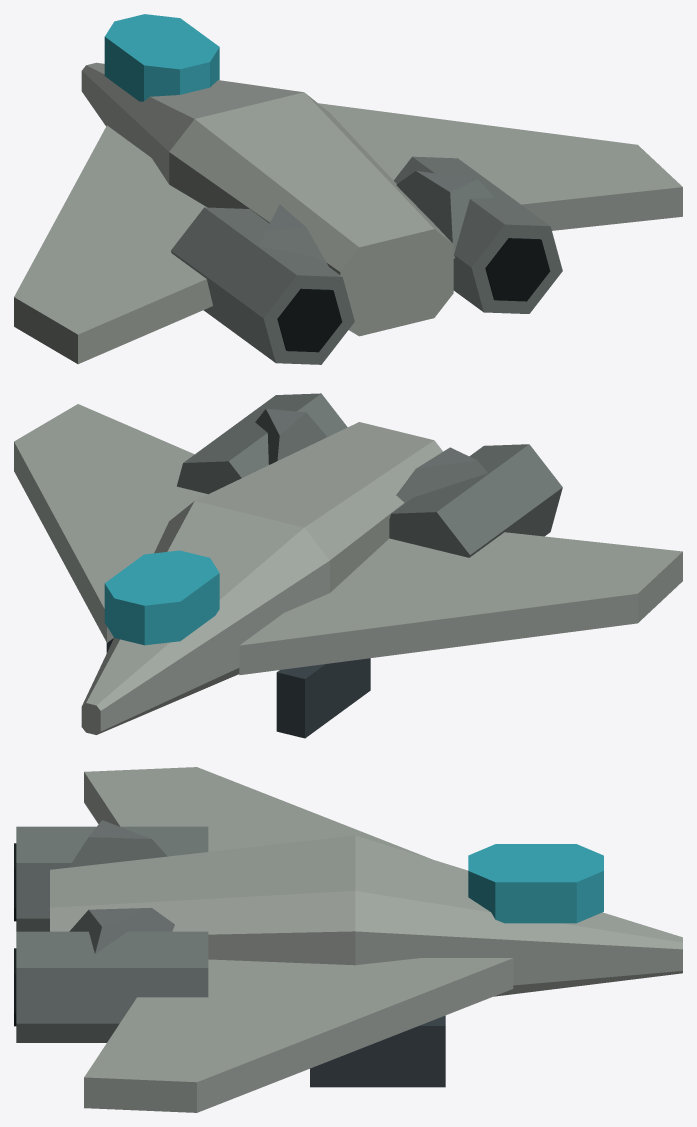
Rendered from family-fighter.glb.
3 views of the same model, one above another, from view 1: azimuth 30°, elevation 25°; view 2: azimuth 150°, elevation 25°; view 3: azimuth 270°, elevation 25° (orthographic). The views are drawn at different scales.
Parts seen in each view (by area): view 1: hull, wing-1, wing1, engine-1, engine1; view 2: hull, wing-1, wing1, engine-1, engine1, gear-1; view 3: hull, wing1, engine1, wing-1, engine-1, gear1.
Part boxes in pixels (x1,y1,x2,y2): hull: [81, 14, 494, 336]; wing-1: [14, 125, 212, 364]; wing1: [318, 103, 682, 230]; engine-1: [171, 207, 354, 364]; engine1: [394, 156, 562, 313]; hull: [81, 409, 487, 734]; wing-1: [239, 532, 682, 675]; wing1: [14, 404, 207, 642]; engine-1: [389, 444, 562, 557]; engine1: [176, 393, 347, 494]; gear-1: [276, 658, 370, 738]; hull: [50, 820, 682, 996]; wing1: [84, 958, 513, 1112]; engine1: [14, 931, 208, 1042]; wing-1: [84, 767, 431, 859]; engine-1: [14, 826, 208, 931]; gear1: [310, 1015, 445, 1087].
Bounding box in the file's own units: 66 × 17 × 59.2.
